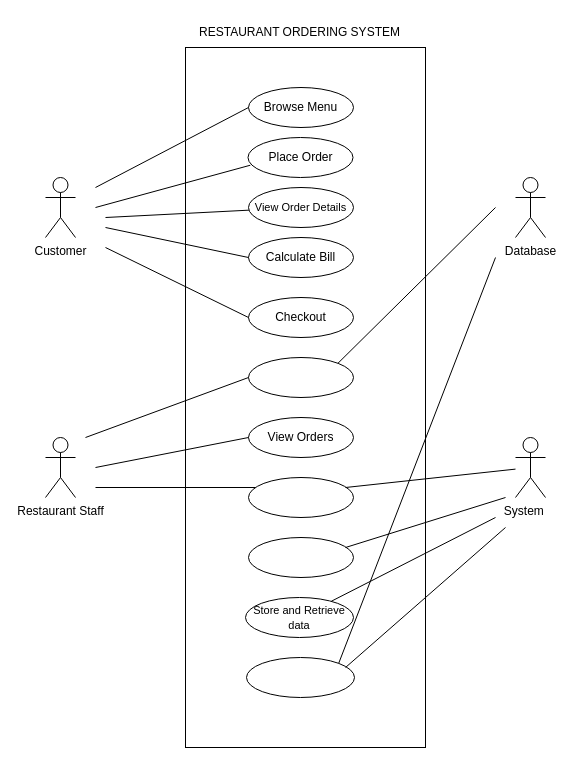
Image size: 574x765. Some labels were removed from this diagram. The shapes that lost their labels are listed below. From the top down, each one's centre as x and y in pixels, then its label:
[301,377]: Manage Menu
[301,497]: Process Order
[301,557]: Handle Invalid Orders
[300,677]: Save/Load data
